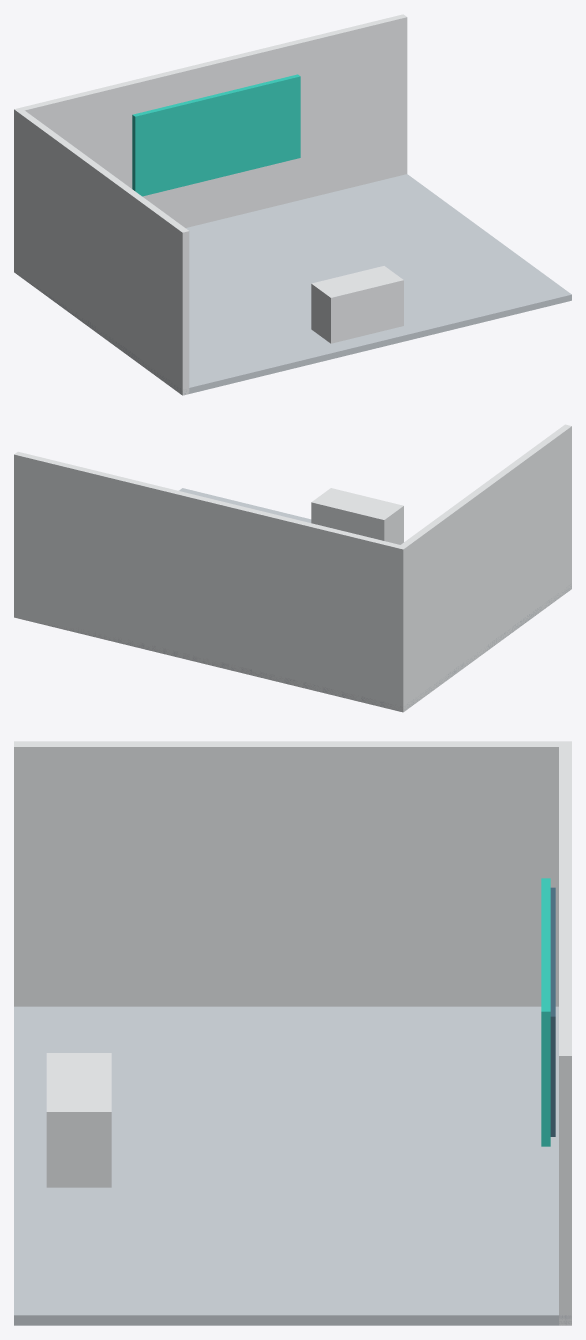
The picture shows the model from 3 angles, top to bottom: view 1: azimuth 30°, elevation 25°; view 2: azimuth 150°, elevation 25°; view 3: azimuth 270°, elevation 25°; orthographic projection. The views are drawn at different scales.
Visible parts, largest first — view 1: Exhibition Booth Concept; view 2: Exhibition Booth Concept; view 3: Exhibition Booth Concept.
Part boxes in pixels (x1,y1,x2,y2): Exhibition Booth Concept: (14,14,571,395); Exhibition Booth Concept: (14,424,571,712); Exhibition Booth Concept: (14,741,571,1325).
Size of the model in its own units: 8 by 3.2 by 6.
